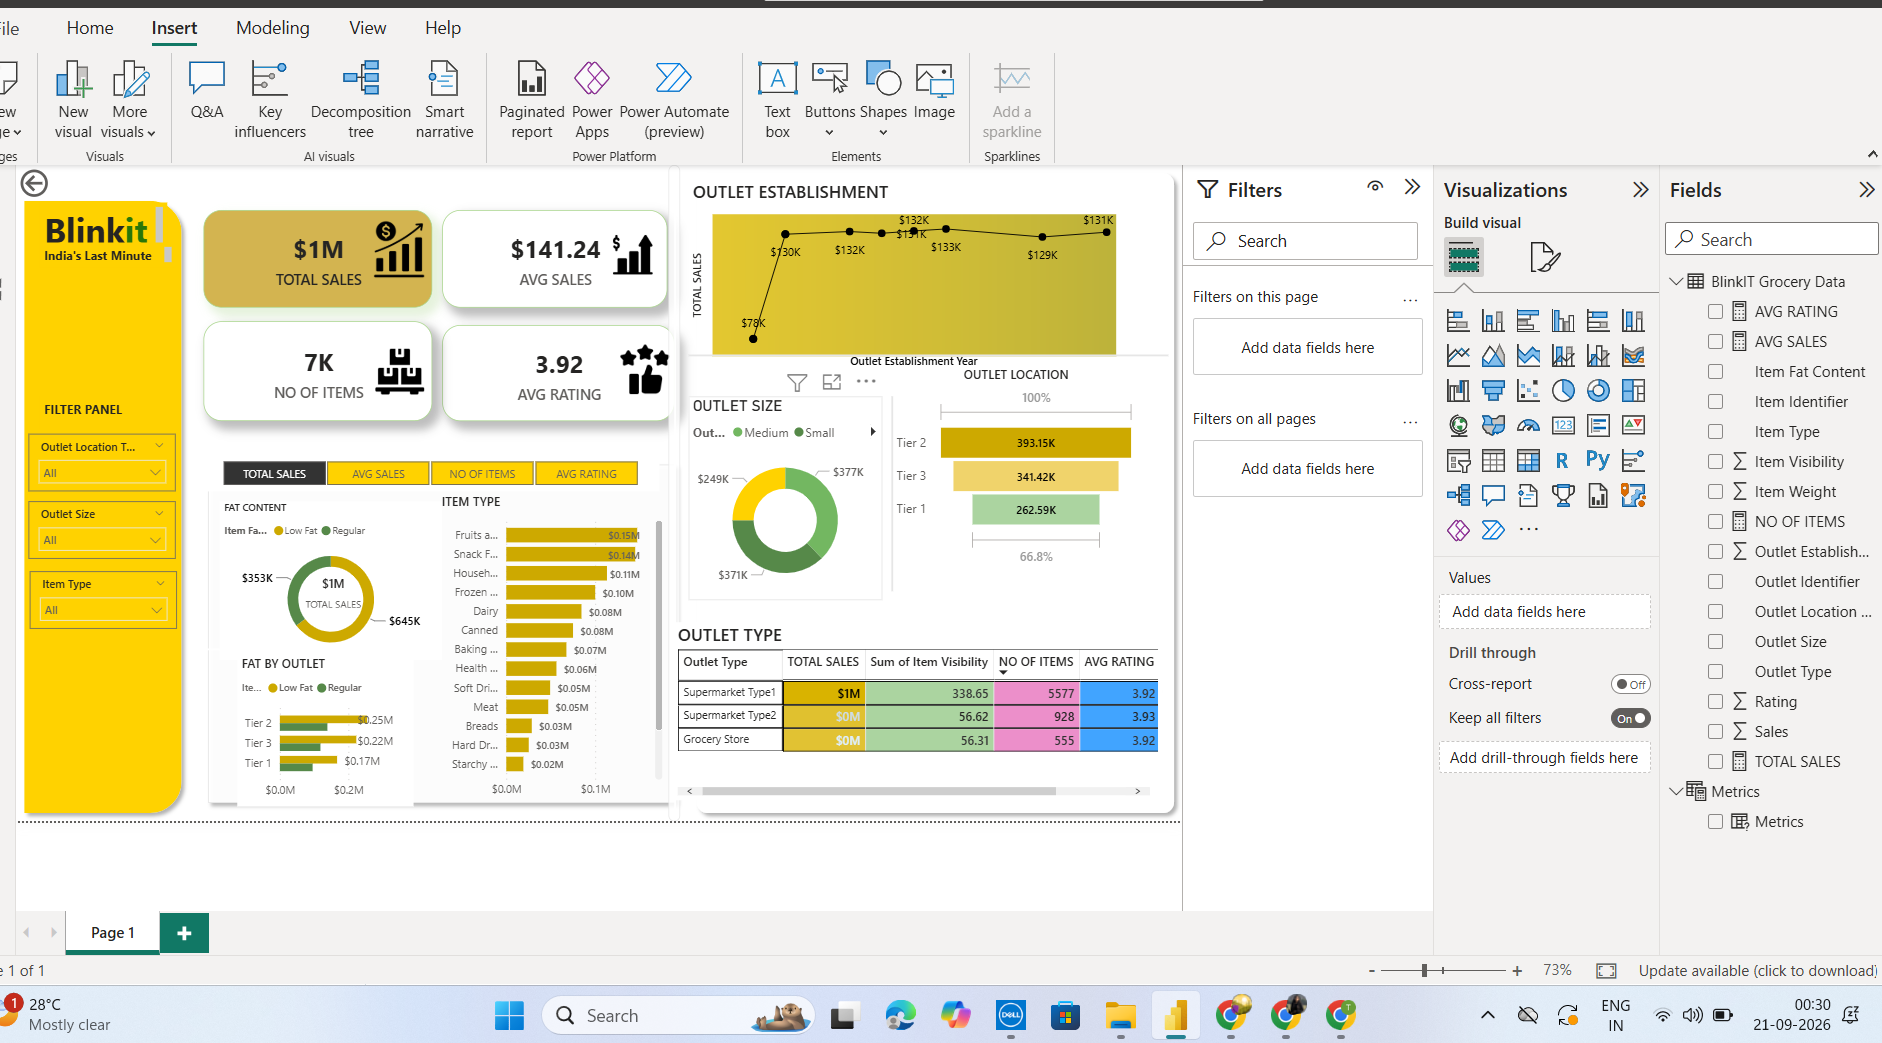

Layout of this report page (visuals, bound fields, positions):
{"tool":"powerbi","page":{"name":"Page 1","canvas":[1280,720],"ordinal":0},"visuals":[{"type":"shape","box":[0,30.2,190.8,690.4],"z":0},{"type":"textbox","box":[26.1,41.2,140,57.6],"z":1000},{"type":"textbox","box":[26.1,85.1,149.6,27.4],"z":2000},{"type":"card","fields":{"Values":["BlinkIT Grocery Data.TOTAL SALES"]},"box":[205.8,49.4,251.1,107],"z":3000},{"type":"card","fields":{"Values":["BlinkIT Grocery Data.AVG SALES"]},"box":[467.9,49.4,247,107],"z":4000},{"type":"card","fields":{"Values":["BlinkIT Grocery Data.AVG RATING"]},"box":[467.9,175.6,255.2,105.7],"z":5000},{"type":"card","fields":{"Values":["BlinkIT Grocery Data.NO OF ITEMS"]},"box":[205.8,171.5,251.1,109.8],"z":6000},{"type":"image","box":[384.2,37,72.7,111.1],"z":7000},{"type":"image","box":[649.1,48,56.3,101.5],"z":8000},{"type":"image","box":[389.7,178.4,63.1,96.1],"z":9000},{"type":"image","box":[658.7,171.5,64.5,105.7],"z":10000},{"type":"shape","box":[201.7,319.7,531,389.7],"z":11000},{"type":"donutChart","title":"FAT CONTENT","fields":{"Y":["BlinkIT Grocery Data.TOTAL SALES"],"Category":["BlinkIT Grocery Data.Item Fat Content"]},"box":[223.7,369.1,244.3,174.3],"z":12000},{"type":"slicer","fields":{"Values":["Metrics.Metrics"]},"box":[201.9,318.1,504.8,40.1],"z":13000},{"type":"card","fields":{"Values":["BlinkIT Grocery Data.TOTAL SALES"]},"box":[312.9,446,71.4,45.3],"z":14000},{"type":"clusteredBarChart","title":"FAT BY OUTLET","fields":{"Y":["BlinkIT Grocery Data.TOTAL SALES"],"Category":["BlinkIT Grocery Data.Outlet Location Type"],"Series":["BlinkIT Grocery Data.Item Fat Content"]},"box":[242.9,537.9,193.5,166],"z":15000},{"type":"shape","box":[205.8,456.9,247,149.6],"z":16000},{"type":"shape","box":[716.3,0,12.4,720.5],"z":17000},{"type":"barChart","title":"ITEM TYPE","fields":{"Y":["BlinkIT Grocery Data.TOTAL SALES"],"Category":["BlinkIT Grocery Data.Item Type"]},"box":[462.4,359.5,252.5,344.4],"z":18000},{"type":"shape","box":[738.5,0,542.1,720.5],"z":19000},{"type":"lineChart","title":"OUTLET ESTABLISHMENT","fields":{"Y":["BlinkIT Grocery Data.TOTAL SALES"],"Category":["BlinkIT Grocery Data.Outlet Establishment Year"]},"box":[738.5,16.6,474.3,211.6],"z":20000},{"type":"shape","box":[738.5,59.5,526.9,300.1],"z":21000},{"type":"donutChart","title":"OUTLET SIZE","fields":{"Y":["BlinkIT Grocery Data.TOTAL SALES"],"Category":["BlinkIT Grocery Data.Outlet Size"]},"box":[738.4,253.9,212.7,223.7],"z":22000},{"type":"shape","box":[824.9,253.9,274.5,214.1],"z":23000},{"type":"funnel","title":"OUTLET LOCATION","fields":{"Y":["Sum(BlinkIT Grocery Data.Sales)"],"Category":["BlinkIT Grocery Data.Outlet Location Type"]},"box":[962.5,221.3,272.4,224],"z":24000},{"type":"shape","box":[728.8,477.6,529.8,201.8],"z":25000},{"type":"pivotTable","title":"OUTLET TYPE","fields":{"Rows":["BlinkIT Grocery Data.Outlet Type"],"Values":["BlinkIT Grocery Data.TOTAL SALES","Sum(BlinkIT Grocery Data.Item Visibility)","BlinkIT Grocery Data.NO OF ITEMS","BlinkIT Grocery Data.AVG RATING","BlinkIT Grocery Data.AVG SALES"]},"box":[721.9,502.3,536.7,194.9],"z":26000},{"type":"actionButton","box":[0,0,100,40],"z":27000},{"type":"slicer","fields":{"Values":["BlinkIT Grocery Data.Outlet Location Type"]},"box":[13.7,295.1,162,63.1],"z":27001},{"type":"slicer","fields":{"Values":["BlinkIT Grocery Data.Outlet Size"]},"box":[13.7,369.2,162,63.1],"z":27002},{"type":"slicer","fields":{"Values":["BlinkIT Grocery Data.Item Type"]},"box":[15.1,446.1,162,63.1],"z":27003},{"type":"textbox","box":[26.1,253.9,123.5,35.7],"z":27004}]}

Visuals, with their boxes on the page's 1280x720 design canvas (x1, y1, x2, y2). These are canvas units, not pixel positions in the 1882x1043 screenshot, which may show the page scaled, cropped or inside an application window:
shape: select_region(0, 30, 191, 721)
textbox: select_region(26, 41, 166, 99)
textbox: select_region(26, 85, 176, 112)
card - BlinkIT Grocery Data.TOTAL SALES: select_region(206, 49, 457, 156)
card - BlinkIT Grocery Data.AVG SALES: select_region(468, 49, 715, 156)
card - BlinkIT Grocery Data.AVG RATING: select_region(468, 176, 723, 281)
card - BlinkIT Grocery Data.NO OF ITEMS: select_region(206, 172, 457, 281)
image: select_region(384, 37, 457, 148)
image: select_region(649, 48, 705, 150)
image: select_region(390, 178, 453, 274)
image: select_region(659, 172, 723, 277)
shape: select_region(202, 320, 733, 709)
"FAT CONTENT" donutChart: select_region(224, 369, 468, 543)
slicer - Metrics.Metrics: select_region(202, 318, 707, 358)
card - BlinkIT Grocery Data.TOTAL SALES: select_region(313, 446, 384, 491)
"FAT BY OUTLET" clusteredBarChart: select_region(243, 538, 436, 704)
shape: select_region(206, 457, 453, 606)
shape: select_region(716, 0, 729, 720)
"ITEM TYPE" barChart: select_region(462, 360, 715, 704)
shape: select_region(738, 0, 1281, 720)
"OUTLET ESTABLISHMENT" lineChart: select_region(738, 17, 1213, 228)
shape: select_region(738, 60, 1265, 360)
"OUTLET SIZE" donutChart: select_region(738, 254, 951, 478)
shape: select_region(825, 254, 1099, 468)
"OUTLET LOCATION" funnel: select_region(962, 221, 1235, 445)
shape: select_region(729, 478, 1259, 679)
"OUTLET TYPE" pivotTable: select_region(722, 502, 1259, 697)
actionButton: select_region(0, 0, 100, 40)
slicer - BlinkIT Grocery Data.Outlet Location Type: select_region(14, 295, 176, 358)
slicer - BlinkIT Grocery Data.Outlet Size: select_region(14, 369, 176, 432)
slicer - BlinkIT Grocery Data.Item Type: select_region(15, 446, 177, 509)
textbox: select_region(26, 254, 150, 290)
